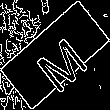M_NW: (23, 21, 87, 89)
